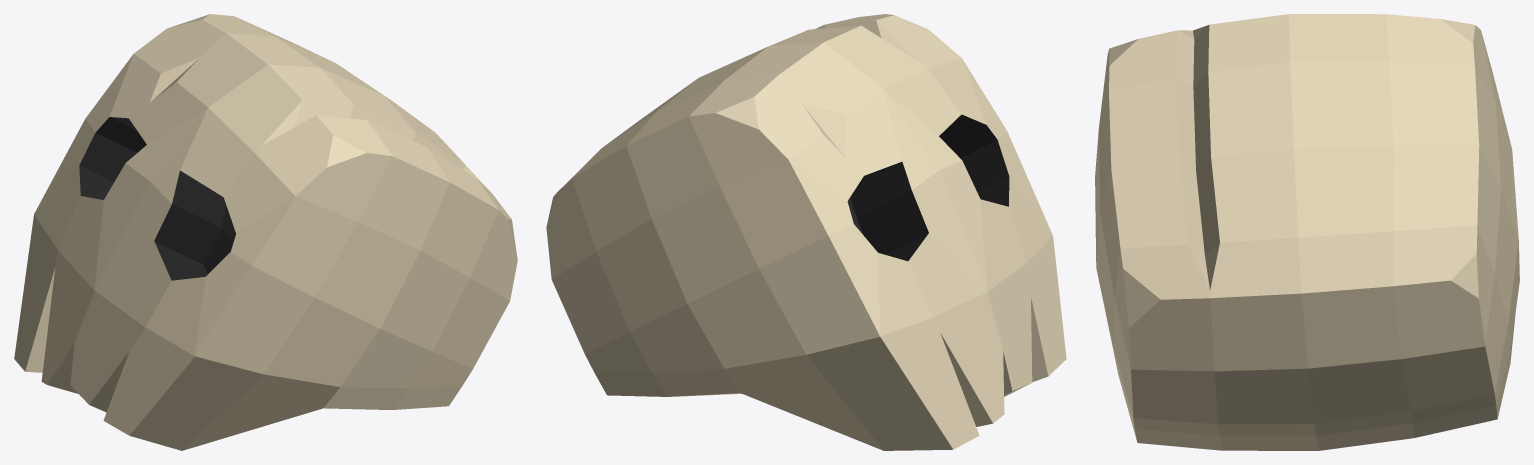
The model's file is Skull.fbx.
3 views of the same model, side by side, from view 1: azimuth 30°, elevation 25°; view 2: azimuth 150°, elevation 25°; view 3: azimuth 270°, elevation 25° (orthographic). The views are drawn at different scales.
Parts seen in each view (by area): view 1: Skull; view 2: Skull; view 3: Skull.
Part boxes in pixels (x1=…): Skull: x1=14, y1=14, x2=517, y2=450; Skull: x1=546, y1=14, x2=1066, y2=450; Skull: x1=1095, y1=14, x2=1519, y2=450.
Bounding box in the file's own units: 27.23 × 21.52 × 22.34.
